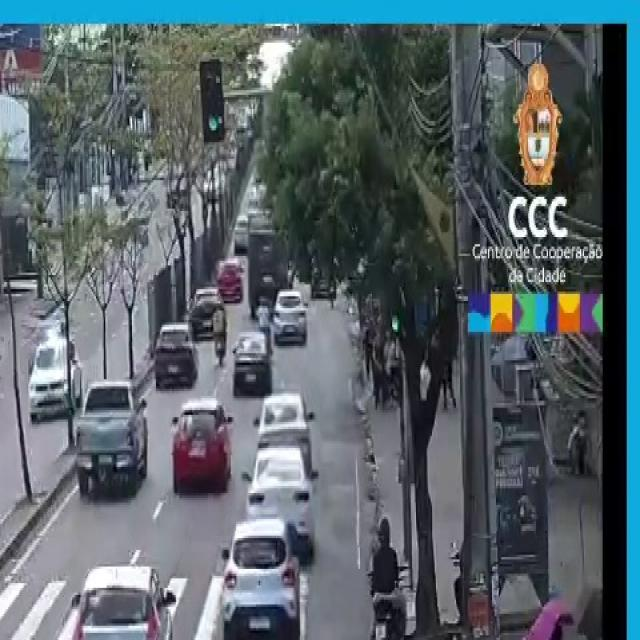biker: (359, 507, 412, 640)
car: (214, 507, 306, 640), (73, 378, 155, 506), (70, 559, 178, 640), (250, 446, 320, 551), (168, 402, 235, 498), (27, 328, 83, 420), (155, 318, 197, 394)
people: (533, 592, 578, 640)
